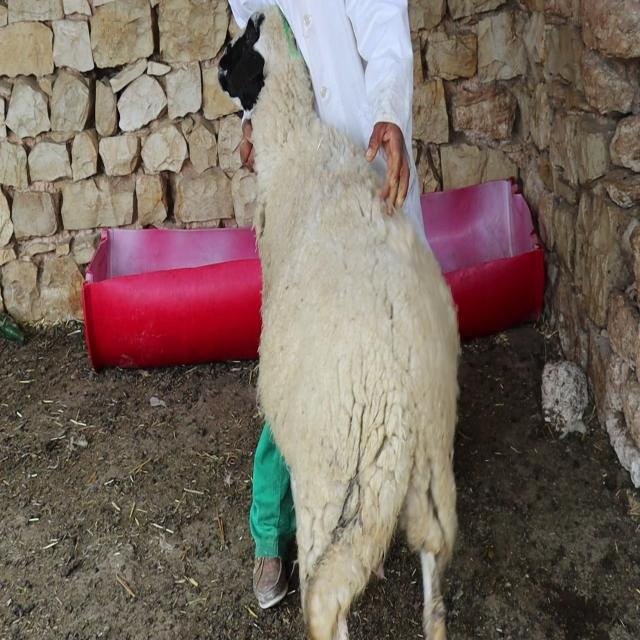Score_4: (218, 9, 460, 639)
